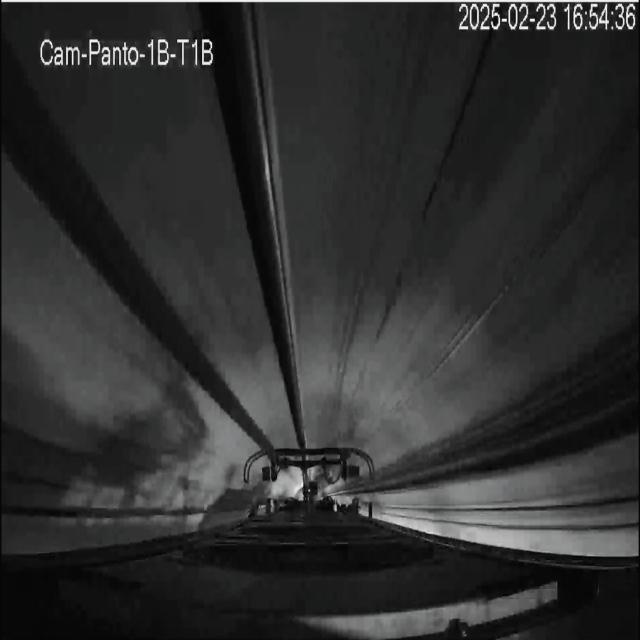Camera Stamp: (38, 34, 219, 69)
Date Stamp: (459, 3, 636, 33)
No - Spark: (244, 444, 374, 507)
